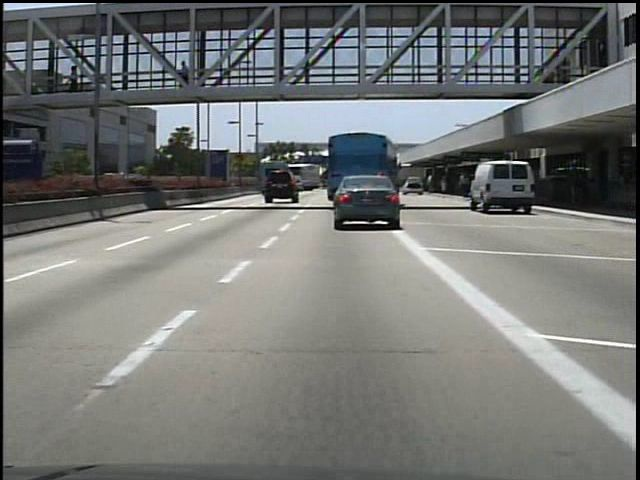person: (567, 166, 588, 209), (178, 58, 196, 98), (68, 62, 85, 94), (459, 169, 472, 198)
